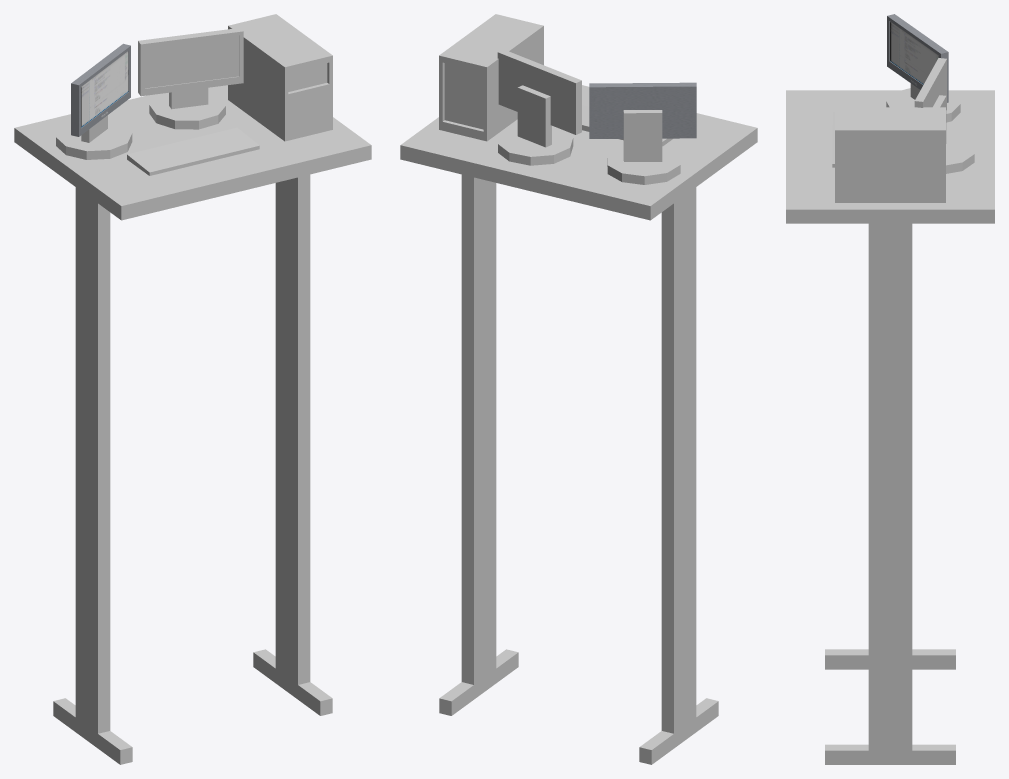
File: PCDeskV5Blank.gltf
3 views of the same model, side by side, from view 1: azimuth 30°, elevation 25°; view 2: azimuth 150°, elevation 25°; view 3: azimuth 270°, elevation 25° (orthographic). The views are drawn at different scales.
Visible parts, largest first — view 1: Cube, Cube.002, Cube.005, Cube.003, Cube.006, Cylinder.002, Cylinder.001, Cube.004; view 2: Cube, Cube.002, Cube.003, Cube.005, Cube.001, Cylinder.001, Cylinder.002, Cube.004; view 3: Cube, Cube.002, Cube.003, Cube.005, Cylinder.001, Cylinder.002.
Part boxes in pixels (box(x1,y1,x2,y2)): Cube: box(14, 85, 371, 764); Cube.002: box(228, 14, 332, 141); Cube.005: box(138, 27, 243, 96); Cube.003: box(71, 43, 130, 136); Cube.006: box(127, 127, 259, 175); Cylinder.002: box(56, 121, 132, 159); Cylinder.001: box(149, 92, 225, 129); Cube.004: box(169, 87, 208, 109); Cube: box(400, 85, 757, 764); Cube.002: box(439, 14, 543, 141); Cube.003: box(589, 82, 696, 138); Cube.005: box(497, 49, 581, 134); Cube.001: box(623, 110, 662, 161); Cylinder.001: box(498, 126, 573, 165); Cylinder.002: box(607, 146, 680, 184); Cube.004: box(517, 85, 551, 147); Cube: box(786, 90, 994, 764); Cube.002: box(835, 107, 945, 202); Cube.003: box(887, 14, 948, 102); Cube.005: box(914, 58, 946, 110); Cylinder.001: box(946, 136, 974, 173); Cylinder.002: box(886, 88, 960, 122).
Size of the model in its own units: 0.5 by 1.26 by 0.3705.
1 material, 1 textured.
